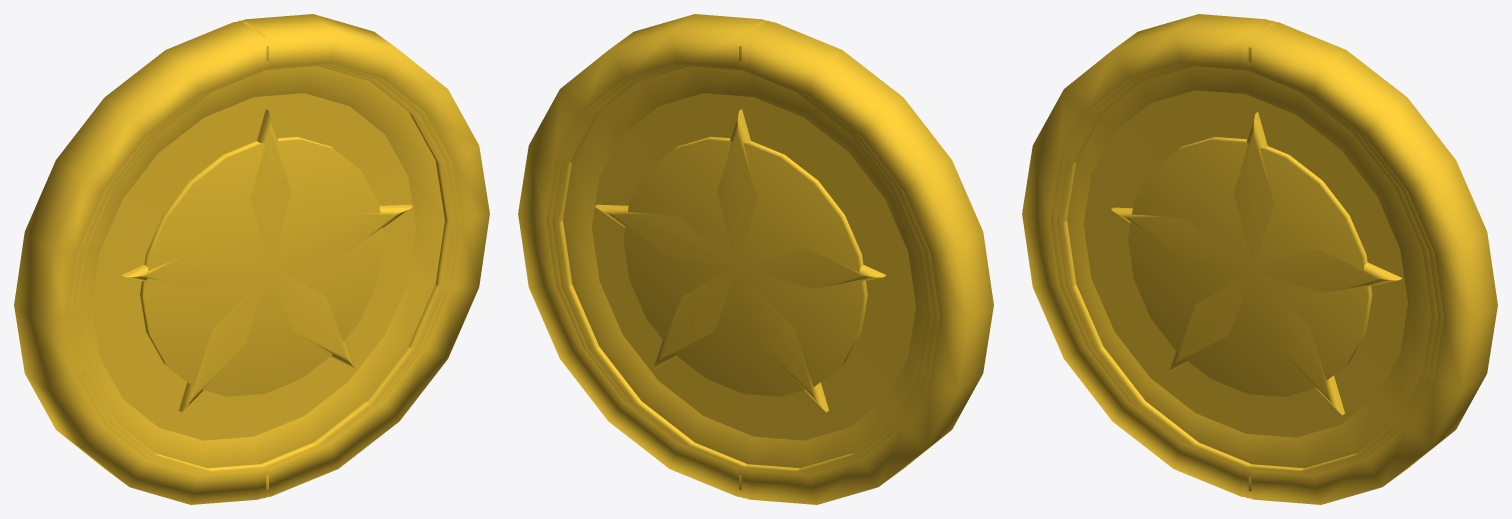
File: Coins.fbx
The picture shows the model from 3 angles, left to right: view 1: azimuth 30°, elevation 25°; view 2: azimuth 150°, elevation 25°; view 3: azimuth 330°, elevation 25°; orthographic projection.
Visible parts, largest first — view 1: pCylinder1, pCylinder2, pCylinder3; view 2: pCylinder1, pCylinder2, pCylinder3; view 3: pCylinder1, pCylinder3, pCylinder2.
Boxes of the visible parts, x1,y1,x2,y2 form: pCylinder1: (68, 20, 461, 498); pCylinder2: (14, 22, 455, 504); pCylinder3: (74, 14, 489, 496); pCylinder1: (546, 20, 939, 498); pCylinder2: (552, 22, 993, 504); pCylinder3: (518, 14, 933, 496); pCylinder1: (1050, 20, 1443, 498); pCylinder3: (1057, 22, 1497, 504); pCylinder2: (1022, 14, 1438, 496).
Size of the model in its own units: 206 by 200 by 20.16.
Materials: 1 (1 with a texture image).
